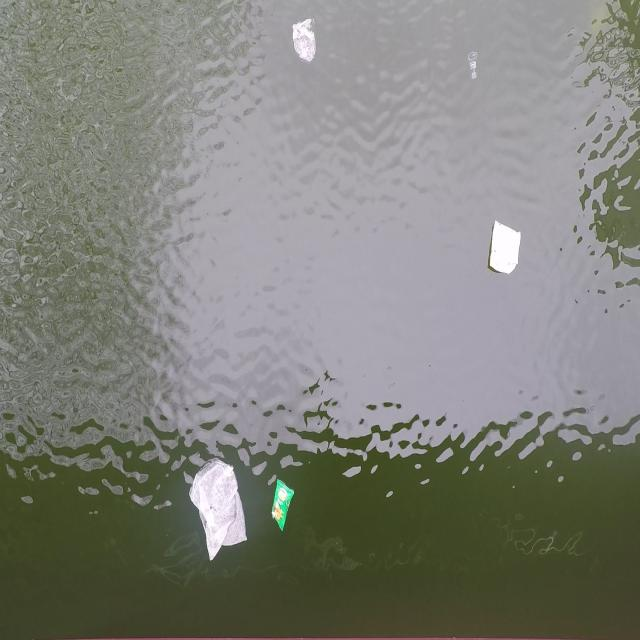Autre plastique: (486, 218, 525, 280), (265, 473, 299, 536)
Sac plastique: (182, 454, 251, 567), (286, 12, 322, 66)
